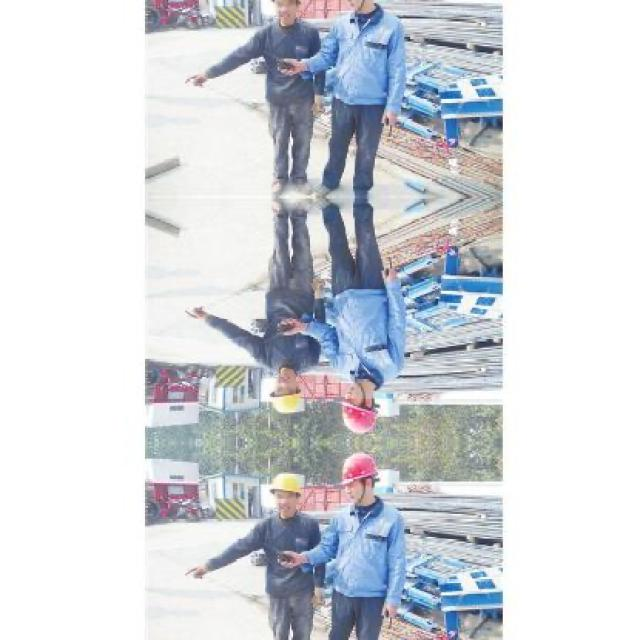con casco: (248, 356, 312, 439), (342, 361, 387, 439)
